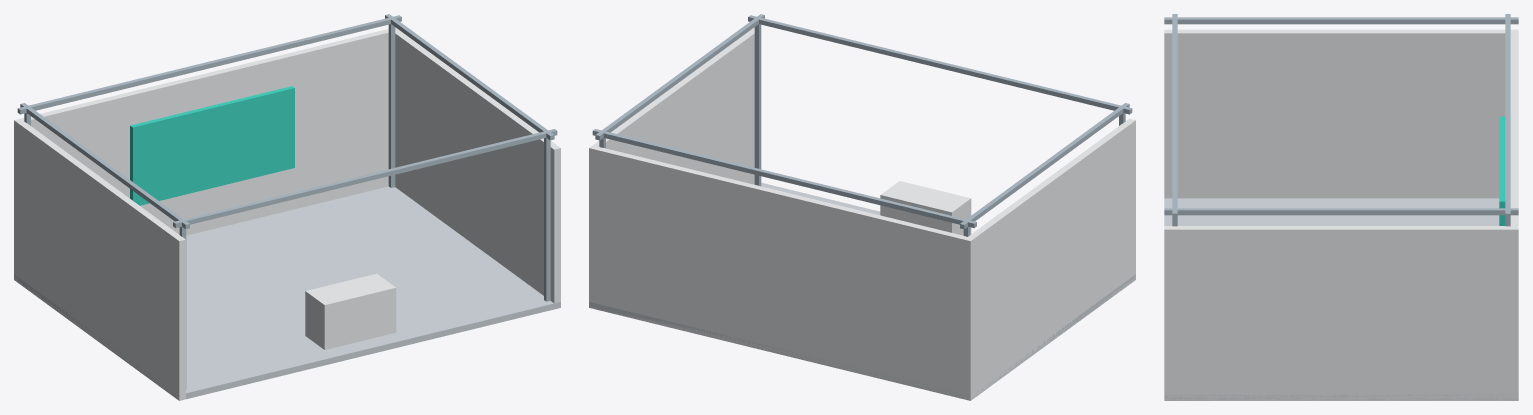
The picture shows the model from 3 angles, left to right: view 1: azimuth 30°, elevation 25°; view 2: azimuth 150°, elevation 25°; view 3: azimuth 270°, elevation 25°; orthographic projection. The views are drawn at different scales.
Visible parts, largest first — view 1: Exhibition Booth Concept; view 2: Exhibition Booth Concept; view 3: Exhibition Booth Concept.
Boxes of the visible parts, box(x1,y1,x2,y2) form: Exhibition Booth Concept: box(14, 14, 560, 400); Exhibition Booth Concept: box(589, 14, 1135, 400); Exhibition Booth Concept: box(1164, 14, 1518, 400).
Size of the model in its own units: 8 by 3.49 by 6.
